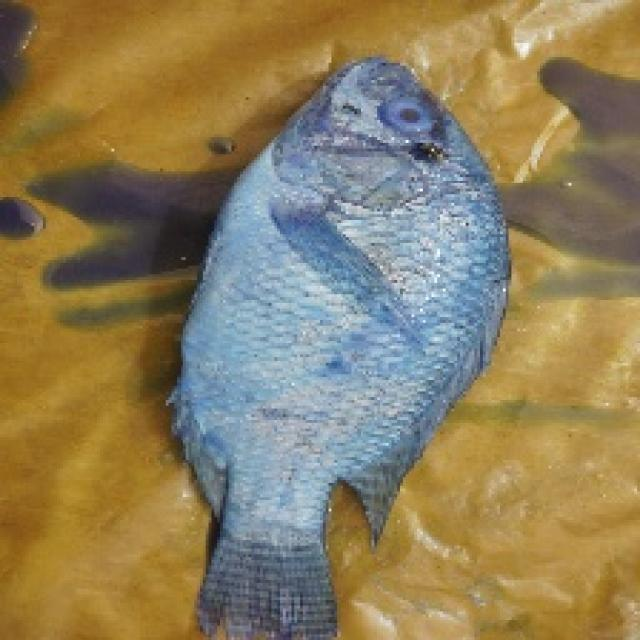Non-Fresh: (177, 29, 508, 566)
